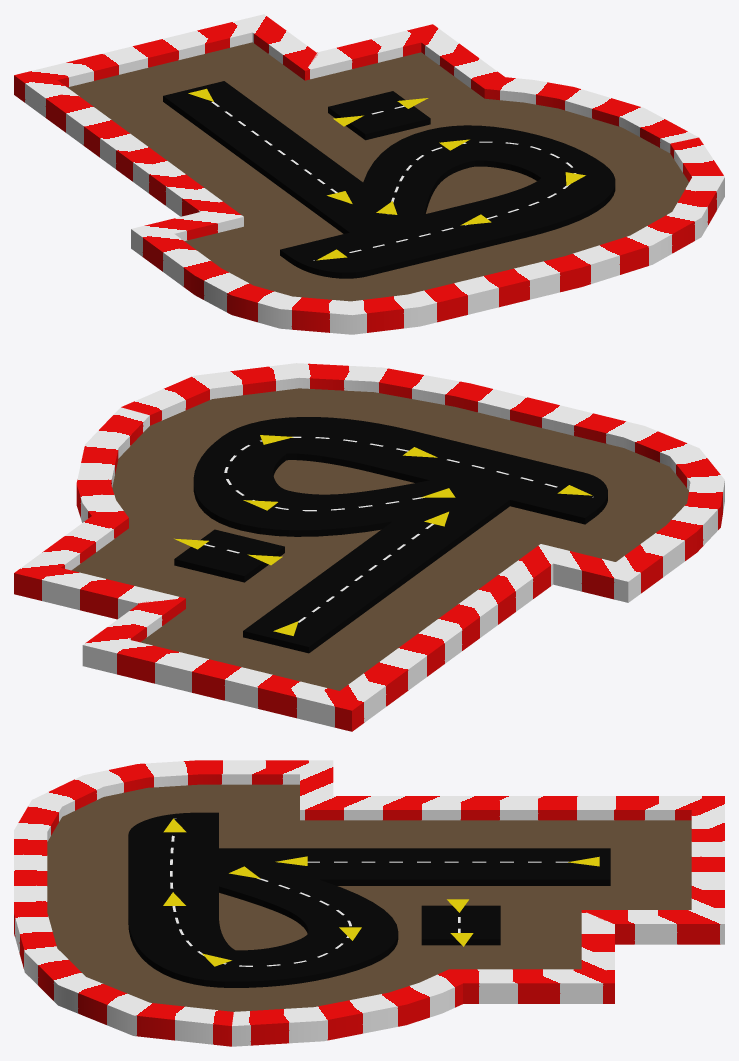
The model's file is zah.FBX.
3 views of the same model, one above another, from view 1: azimuth 30°, elevation 25°; view 2: azimuth 150°, elevation 25°; view 3: azimuth 270°, elevation 25° (orthographic). The views are drawn at different scales.
Parts seen in each view (by area): view 1: zah_floor, zah_coll, zah; view 2: zah_floor, zah_coll, zah; view 3: zah_floor, zah_coll, zah, line0.
Part boxes in pixels (x1=…): zah_floor: x1=67, y1=42, x2=688, y2=301; zah_coll: x1=14, y1=14, x2=724, y2=334; zah: x1=163, y1=81, x2=615, y2=278; zah_floor: x1=72, y1=388, x2=688, y2=690; zah_coll: x1=14, y1=363, x2=724, y2=731; zah: x1=174, y1=417, x2=607, y2=653; zah_floor: x1=47, y1=784, x2=691, y2=1011; zah_coll: x1=14, y1=760, x2=724, y2=1046; zah: x1=128, y1=812, x2=610, y2=987; line0: x1=170, y1=818, x2=351, y2=966.
Bounding box in the file's own units: 909 × 32.77 × 1026.
